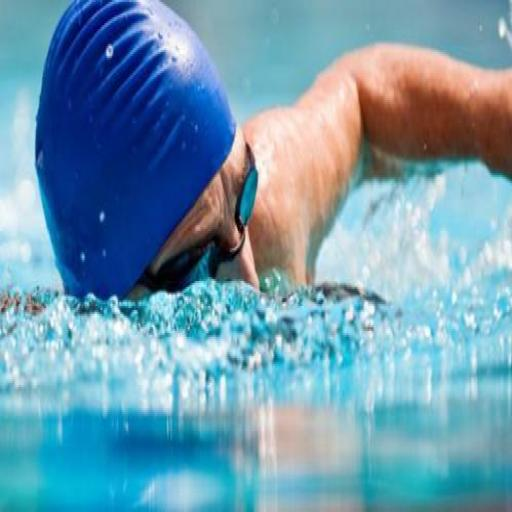swimming: (32, 0, 511, 306)
